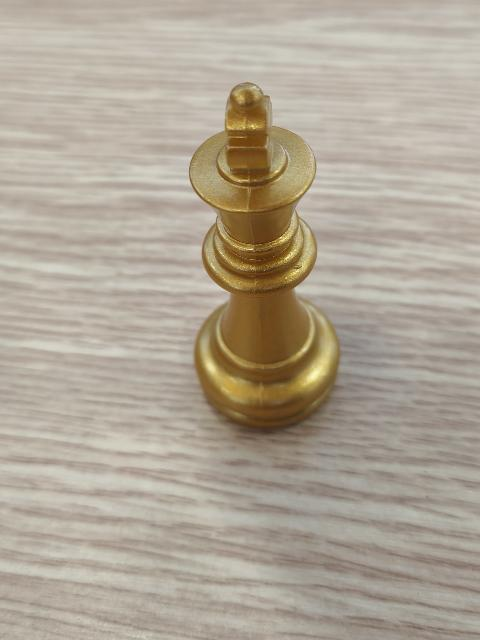black_king: (186, 78, 341, 426)
